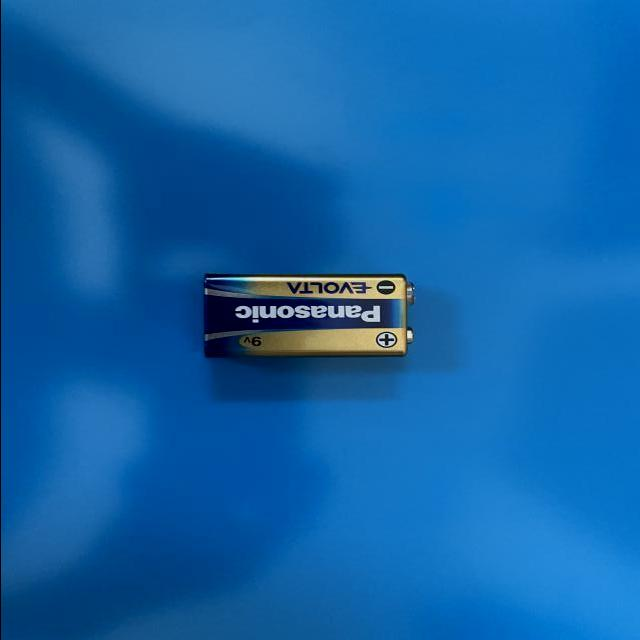9V: (202, 274, 417, 358)
